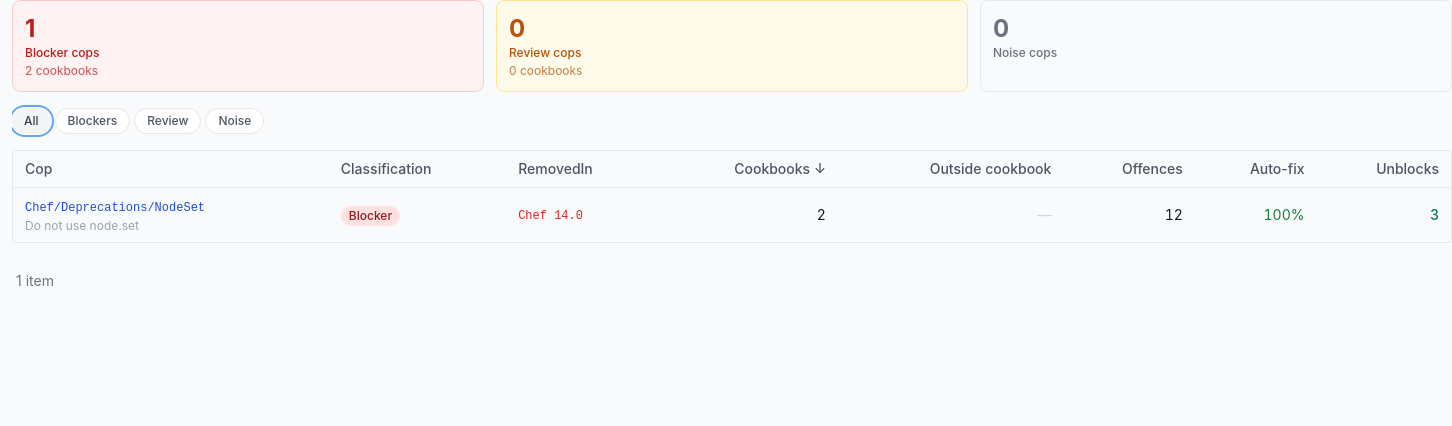
it: CopAnalysisTab › git tab lists repositories flat (no grouping)
Click the button "Chef/Deprecations/NodeSet" at (115, 208), box [25,200,205,216]
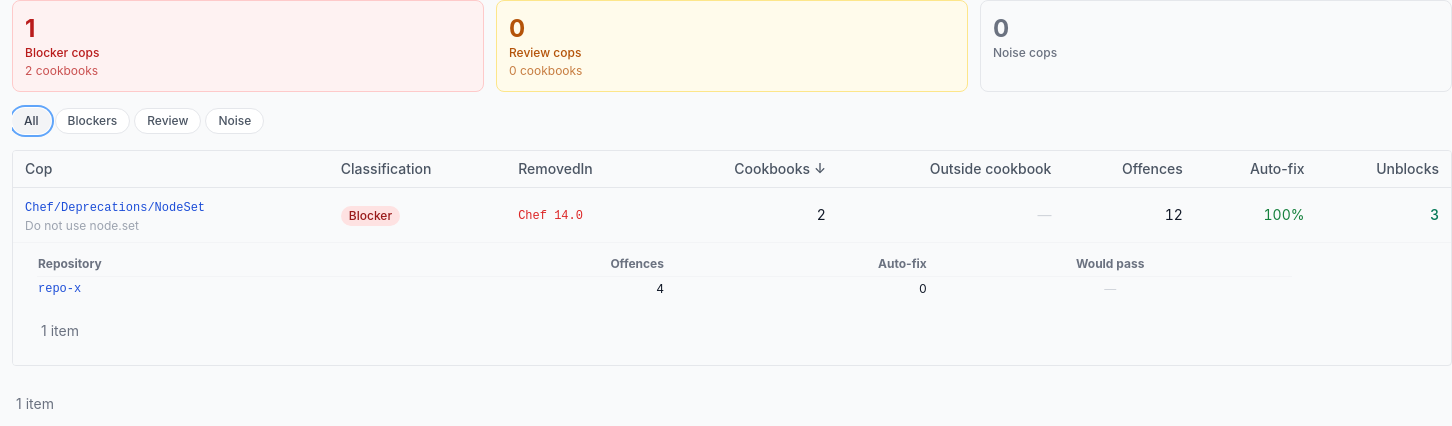
Now the link "repo-x" is shown, box [38,282,81,296]
Now the column heading "Repository" is shown, box [37,255,377,276]
